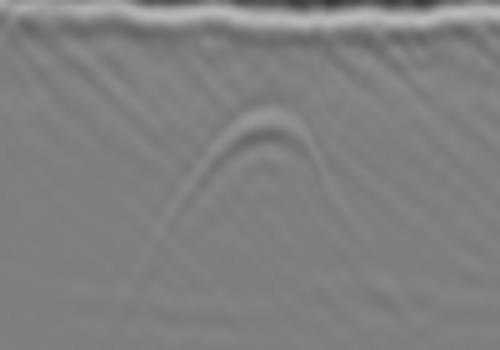hyperbola: (162, 101, 335, 223)
